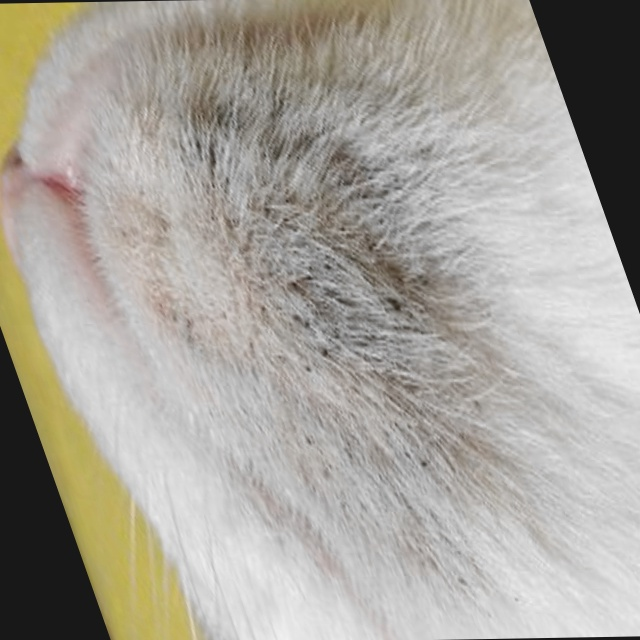acne: (147, 120, 500, 475)
